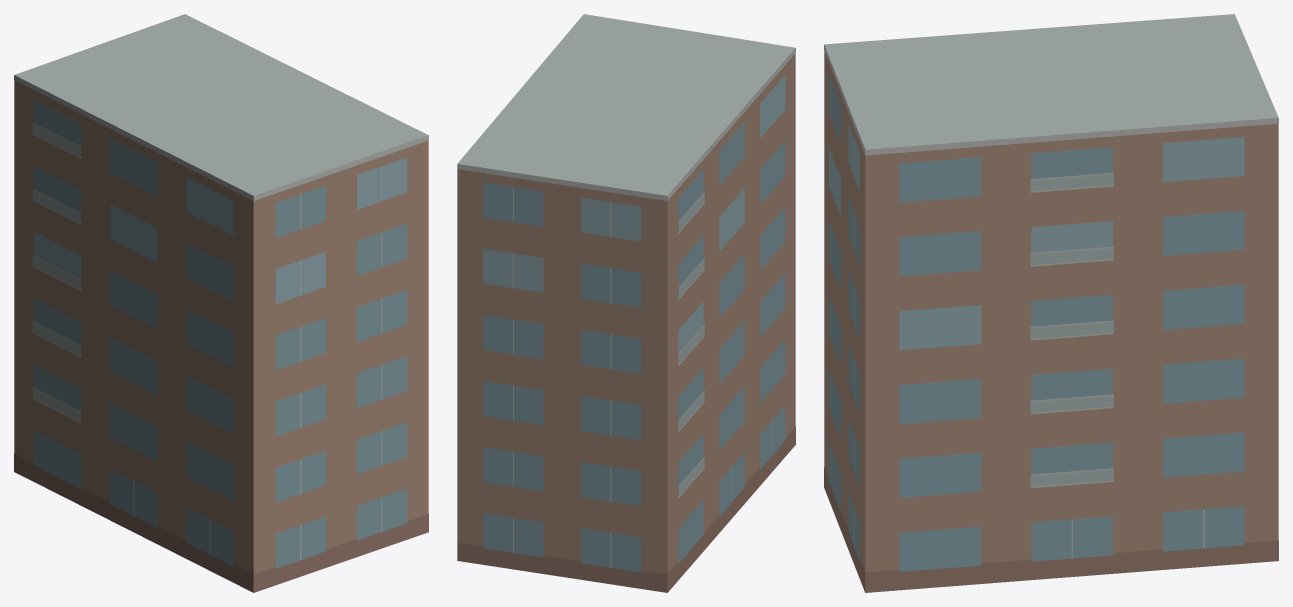
The model's file is survey-upis-32714282.glb.
The picture shows the model from 3 angles, left to right: view 1: azimuth 30°, elevation 25°; view 2: azimuth 150°, elevation 25°; view 3: azimuth 270°, elevation 25°; orthographic projection. The views are drawn at different scales.
Parts seen in each view (by area): view 1: survey-upis-32714282.tmp; view 2: survey-upis-32714282.tmp; view 3: survey-upis-32714282.tmp.
Part boxes in pixels (bbox=[...]): survey-upis-32714282.tmp: bbox=[14, 14, 428, 592]; survey-upis-32714282.tmp: bbox=[457, 14, 795, 592]; survey-upis-32714282.tmp: bbox=[824, 14, 1278, 592].
Bounding box in the file's own units: 12.3 × 18.7 × 17.4.
